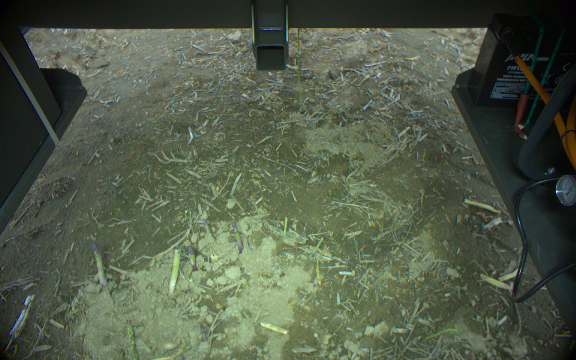aspa: (294, 26, 306, 111), (164, 247, 183, 297), (91, 239, 108, 288), (461, 197, 501, 215), (125, 319, 141, 360), (258, 316, 288, 335), (481, 273, 511, 292), (229, 219, 243, 252), (186, 245, 198, 272), (203, 218, 216, 241), (311, 235, 324, 257), (281, 215, 289, 237)
